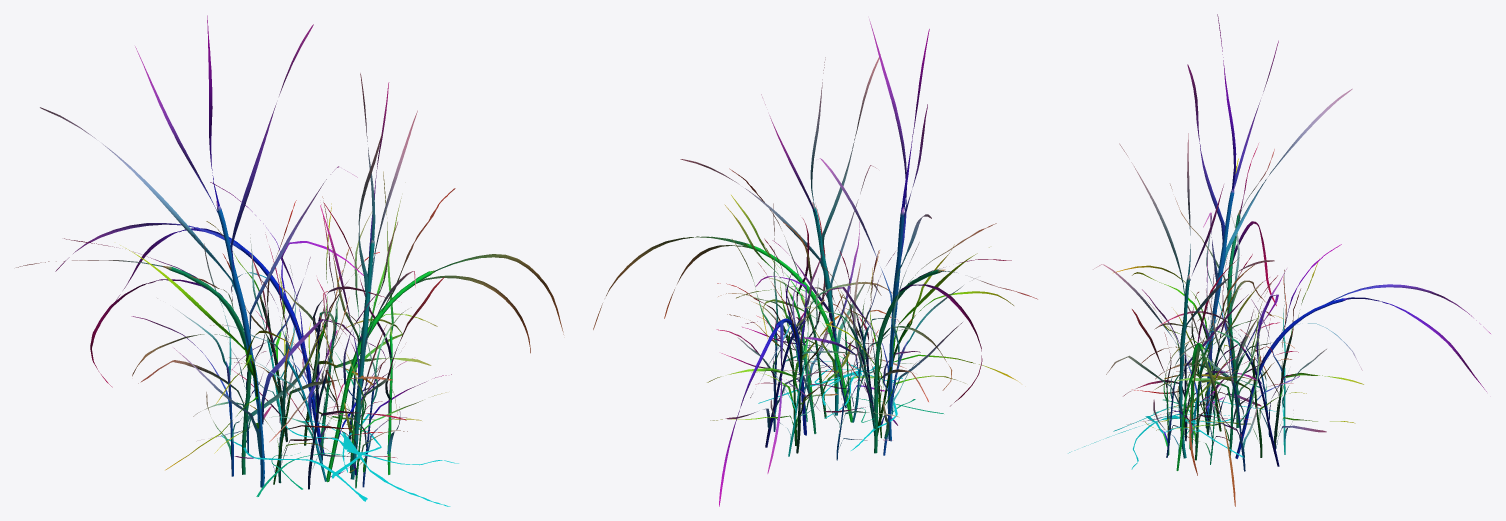
The model's file is Kikuyu_Grass_wiljearqx_Raw_wiljearqx_VarB_LOD0.fbx.
3 views of the same model, side by side, from view 1: azimuth 30°, elevation 25°; view 2: azimuth 150°, elevation 25°; view 3: azimuth 270°, elevation 25° (orthographic). The views are drawn at different scales.
Parts seen in each view (by area): view 1: _7q4v_VarB_High; view 2: _7q4v_VarB_High; view 3: _7q4v_VarB_High.
Part boxes in pixels (left/top/right/bottom): _7q4v_VarB_High: left=16, top=15, right=563, bottom=506; _7q4v_VarB_High: left=593, top=19, right=1037, bottom=506; _7q4v_VarB_High: left=1068, top=14, right=1490, bottom=506.
Size of the model in its own units: 54.49 by 47.59 by 46.4.
